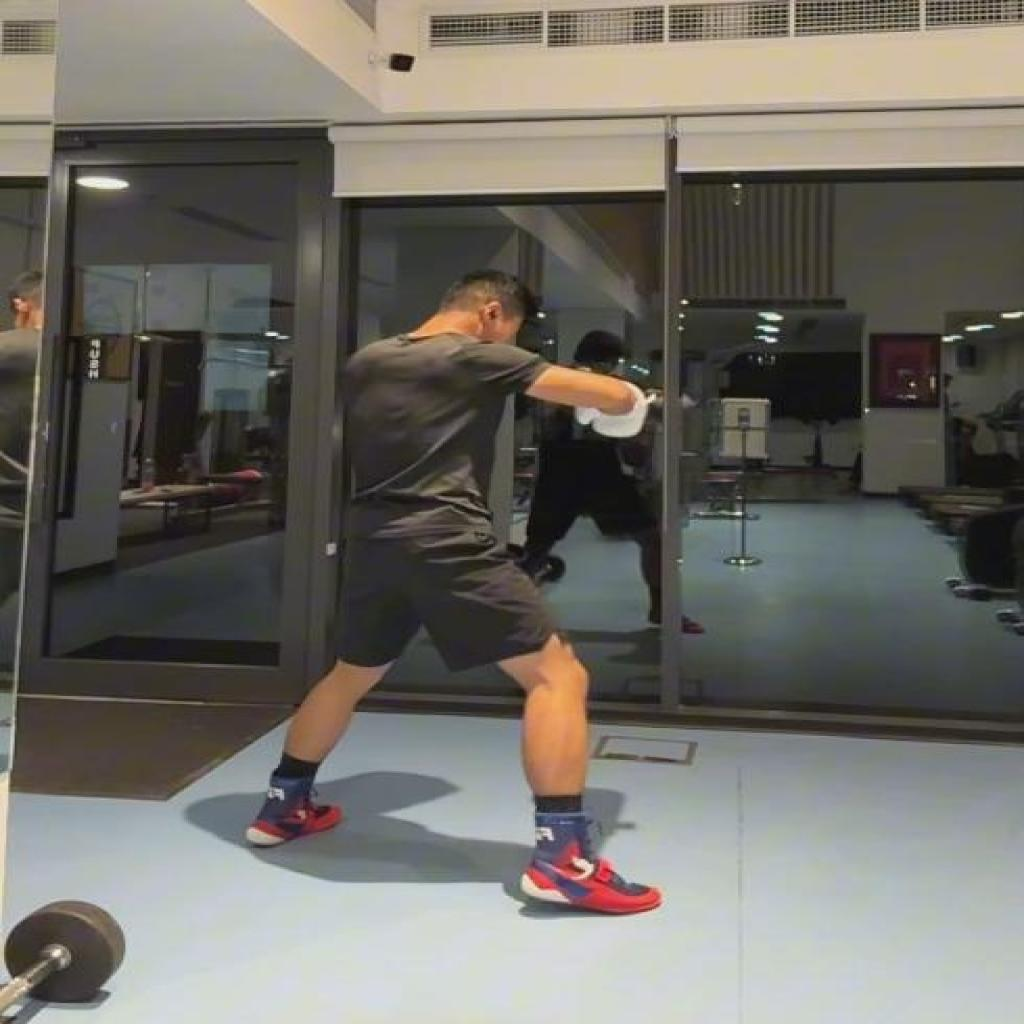hook: (244, 262, 664, 920)
